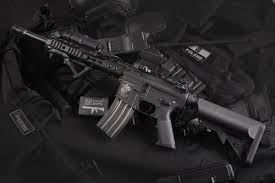Gun: (10, 12, 266, 157)
